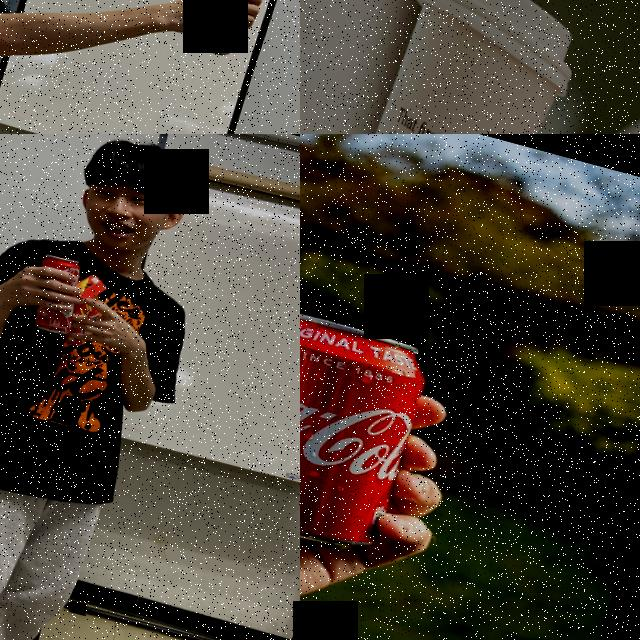can: (300, 298, 435, 566), (24, 250, 90, 340), (186, 0, 263, 62)
cup: (300, 0, 595, 134)
